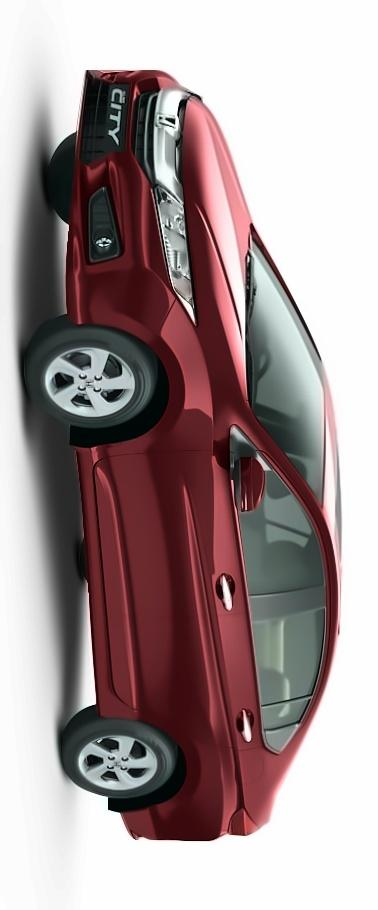Car hood: (176, 88, 264, 406)
Fender - -F-L-: (78, 296, 247, 463)
Fender - -R-L-: (90, 701, 266, 814)
Front bumper: (59, 60, 175, 347)
Headlight - -L-: (146, 175, 203, 332)
Passenger-s door - -F-L-: (88, 449, 335, 614)
Passenger-s door - -R-L-: (99, 604, 336, 755)
Rear bumper: (94, 785, 227, 853)
Rear light - -L-: (223, 803, 262, 847)
Side bumper - -L-: (64, 421, 122, 729)
Side mirror - -L-: (221, 444, 270, 520)
